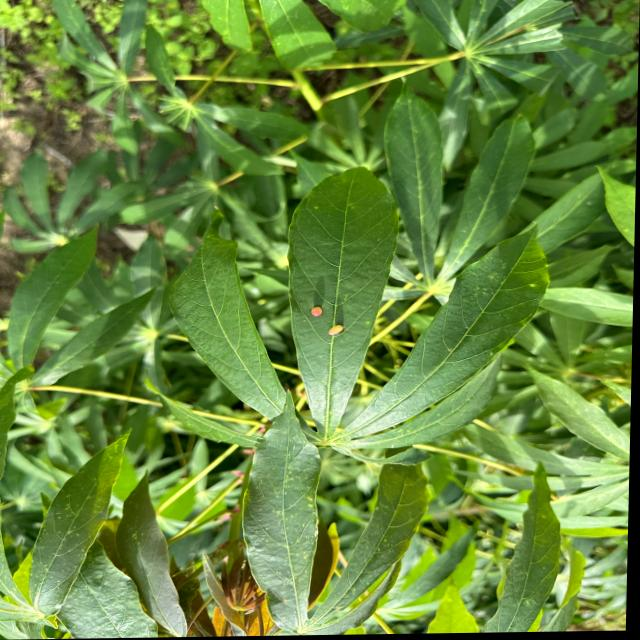Mosca: (321, 316, 347, 343), (300, 301, 326, 320)
